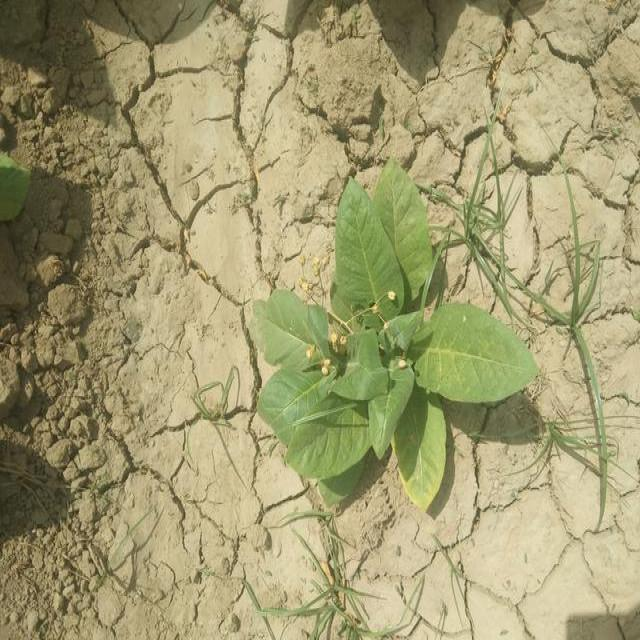crop: (260, 162, 540, 509), (0, 142, 29, 224)
